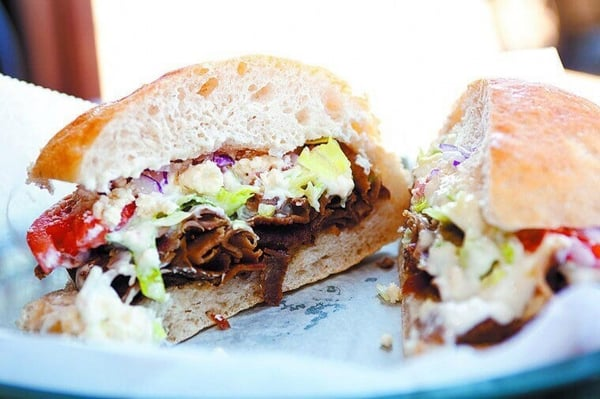soup: (15, 54, 411, 351), (397, 77, 600, 357)
